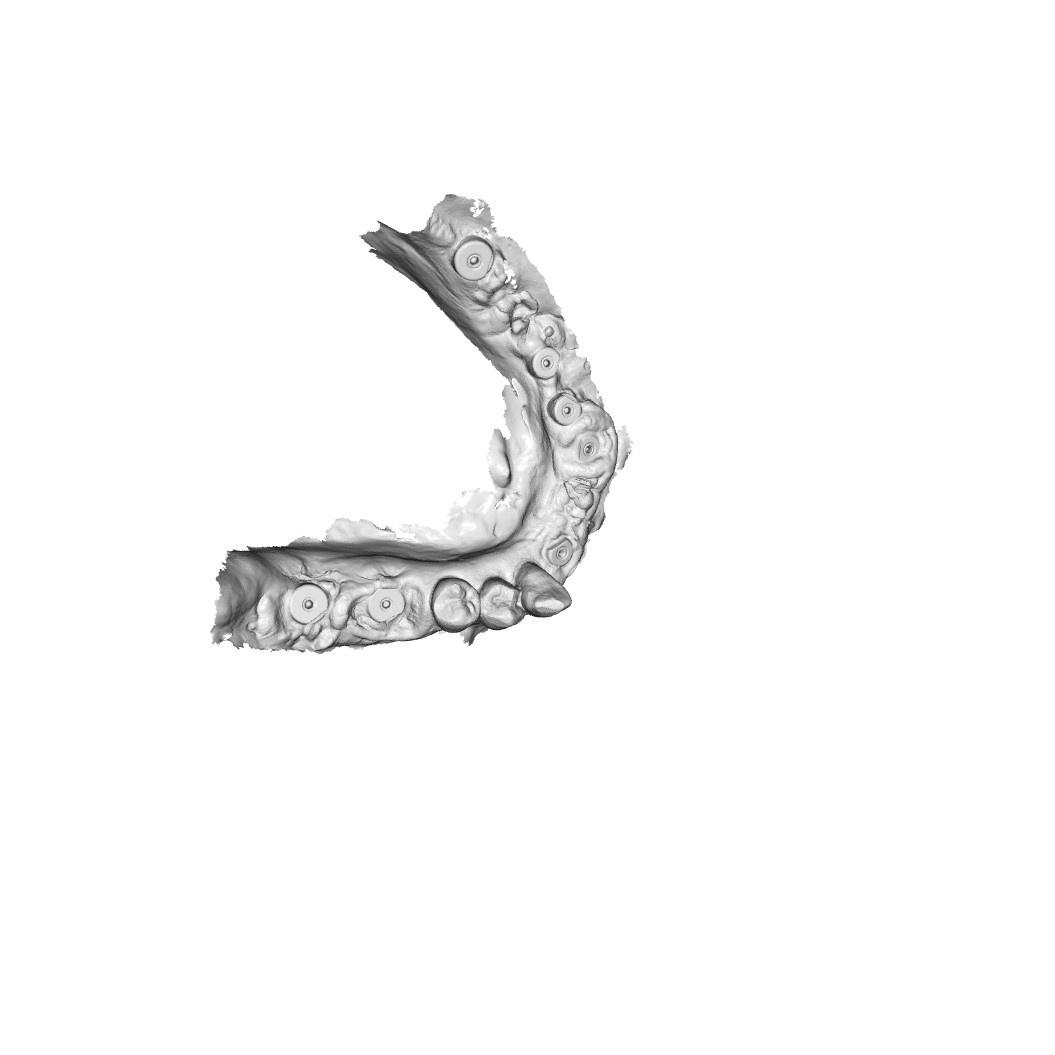canine: (515, 562, 573, 618)
implant: (283, 581, 336, 632), (360, 583, 410, 630), (454, 236, 497, 287), (529, 343, 566, 384), (543, 391, 583, 427), (542, 536, 578, 568), (574, 436, 609, 466)
premolar: (431, 577, 483, 631), (480, 576, 526, 631)
